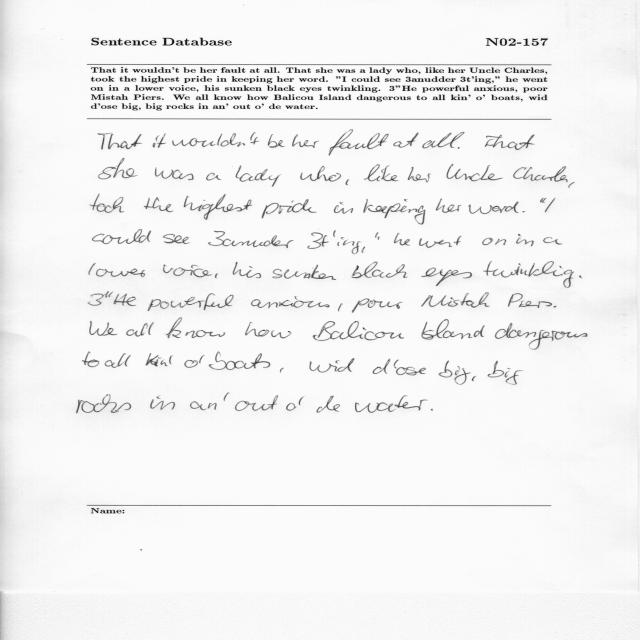word: (495, 323, 588, 350), (483, 261, 574, 288), (313, 321, 404, 341), (184, 194, 252, 220), (364, 199, 426, 225), (329, 130, 389, 156), (148, 293, 234, 311), (208, 231, 294, 248), (421, 319, 485, 340), (355, 395, 428, 413), (172, 132, 259, 147), (308, 230, 361, 254), (166, 318, 226, 339), (421, 292, 490, 308), (209, 352, 270, 370), (262, 199, 317, 218), (77, 395, 131, 414), (236, 165, 281, 187), (446, 164, 503, 181), (272, 265, 336, 280), (251, 296, 330, 308), (422, 268, 473, 286), (351, 262, 408, 278), (373, 359, 426, 376), (513, 166, 568, 182), (99, 158, 138, 180), (488, 361, 523, 385), (93, 230, 152, 244), (438, 360, 471, 385), (485, 134, 535, 150), (89, 263, 145, 277), (352, 298, 403, 313), (245, 322, 291, 338), (98, 133, 142, 149), (422, 132, 465, 148), (235, 395, 278, 411), (310, 358, 355, 373), (190, 393, 229, 410), (508, 293, 552, 308), (90, 194, 124, 213), (163, 265, 212, 278), (300, 166, 341, 181), (468, 202, 519, 214), (364, 165, 398, 182), (419, 236, 461, 248), (233, 262, 261, 278), (144, 197, 173, 212), (155, 169, 194, 180), (126, 322, 154, 337), (90, 321, 117, 336), (104, 353, 131, 368), (317, 396, 340, 413), (393, 133, 419, 148), (292, 134, 319, 148), (436, 198, 461, 213), (88, 291, 113, 306), (146, 354, 174, 367), (150, 396, 175, 410), (408, 167, 431, 182), (184, 355, 205, 368), (163, 234, 190, 244), (286, 396, 304, 411), (114, 294, 136, 306), (83, 352, 100, 367), (267, 134, 285, 148), (334, 202, 353, 214), (516, 234, 534, 246), (394, 233, 410, 246), (153, 133, 166, 148), (482, 238, 506, 245), (545, 198, 555, 212), (543, 237, 562, 244), (206, 173, 222, 181), (338, 303, 343, 312), (568, 182, 575, 188), (375, 232, 380, 240), (540, 198, 546, 203), (362, 246, 366, 253), (472, 376, 477, 381), (345, 179, 349, 185), (280, 368, 284, 373), (215, 273, 218, 278), (579, 275, 582, 279), (554, 306, 557, 308), (458, 147, 460, 149), (431, 409, 433, 411), (522, 211, 525, 212)
